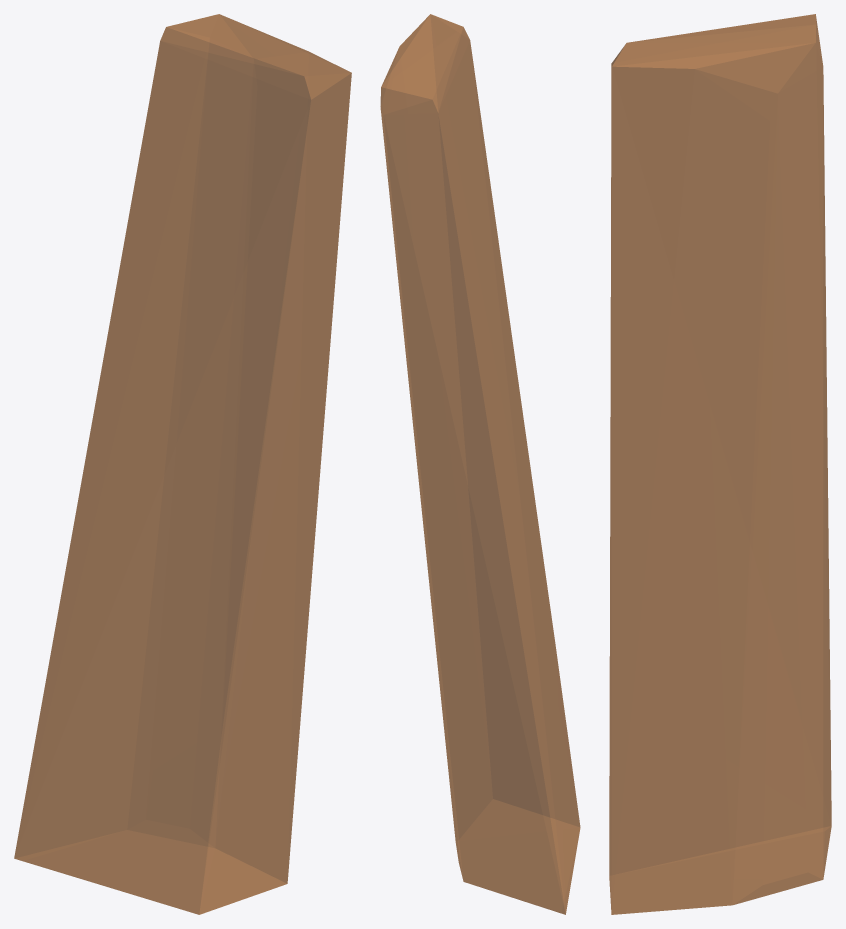
3 renders of one model, left to right at view 1: azimuth 30°, elevation 25°; view 2: azimuth 150°, elevation 25°; view 3: azimuth 270°, elevation 25°, orthographic. The views are drawn at different scales.
Visible parts, largest first — view 1: Shape_IndexedFaceSet.023_Shape_IndexedFaceSet.8302; view 2: Shape_IndexedFaceSet.023_Shape_IndexedFaceSet.8302; view 3: Shape_IndexedFaceSet.023_Shape_IndexedFaceSet.8302.
Part boxes in pixels (<box>): Shape_IndexedFaceSet.023_Shape_IndexedFaceSet.8302: <box>14,14,351,914</box>; Shape_IndexedFaceSet.023_Shape_IndexedFaceSet.8302: <box>380,14,580,914</box>; Shape_IndexedFaceSet.023_Shape_IndexedFaceSet.8302: <box>609,14,831,914</box>.
Bounding box in the file's own units: 0.2551 × 0.8221 × 0.1854.
